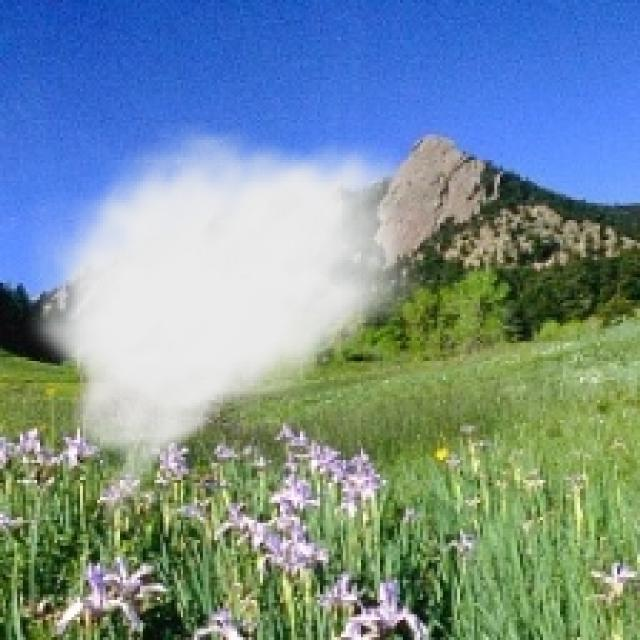smoke: (20, 120, 437, 534)
